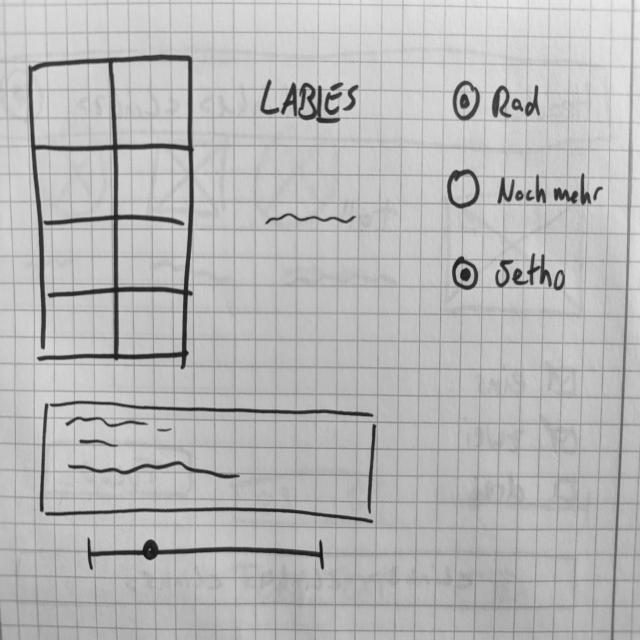label: (259, 77, 365, 127)
radio: (447, 165, 487, 210), (449, 80, 483, 122), (451, 252, 482, 294)
slider: (87, 538, 328, 574)
table: (30, 52, 197, 366)
text: (263, 207, 363, 231)
textbox: (40, 399, 383, 526)
